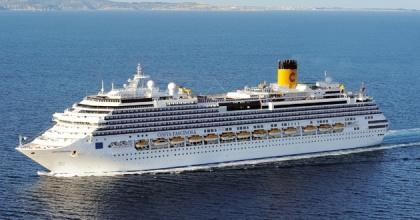youlun: (14, 62, 391, 179)
